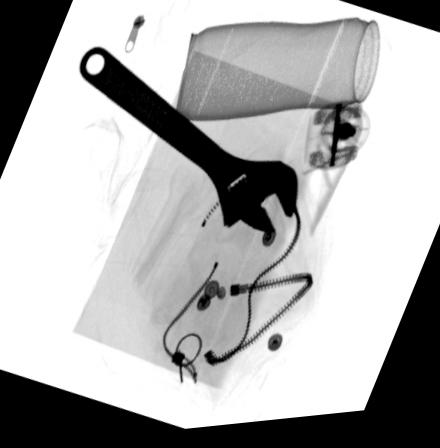Wrench: (78, 46, 299, 242)
